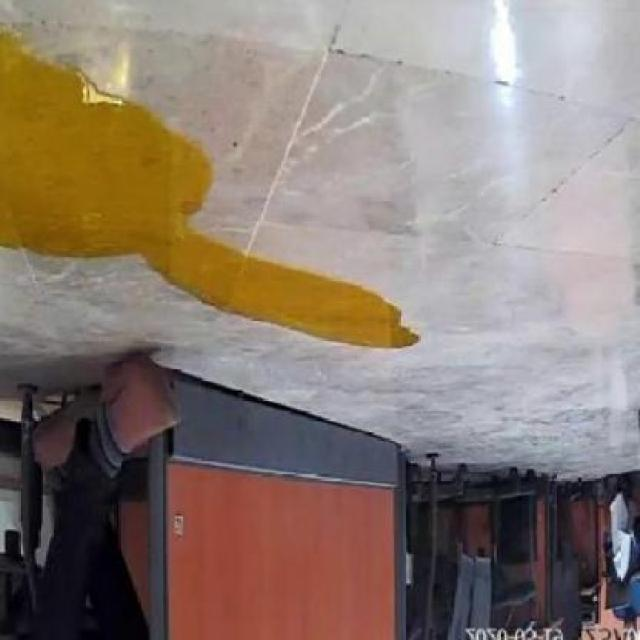spillage: (0, 26, 418, 348)
